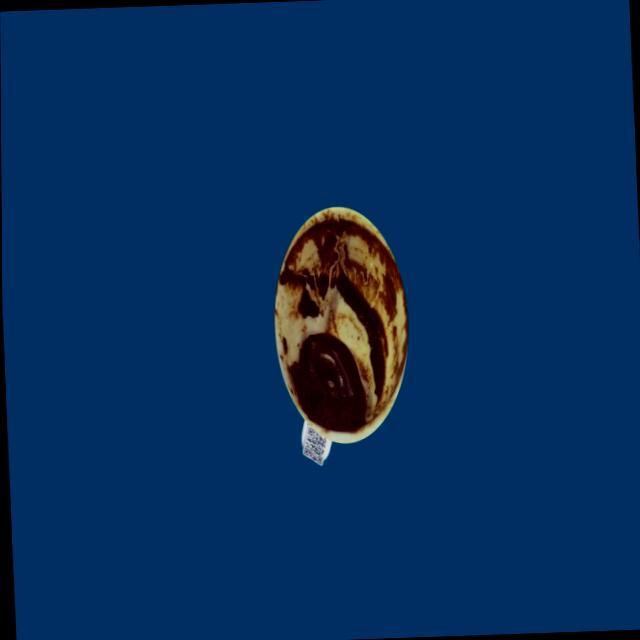cup: (267, 198, 416, 471)
